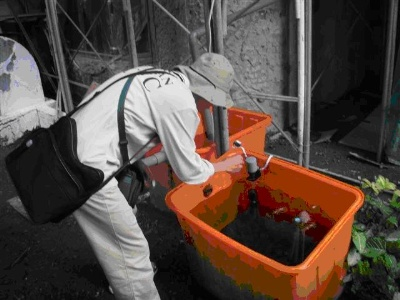box: (165, 140, 365, 300)
